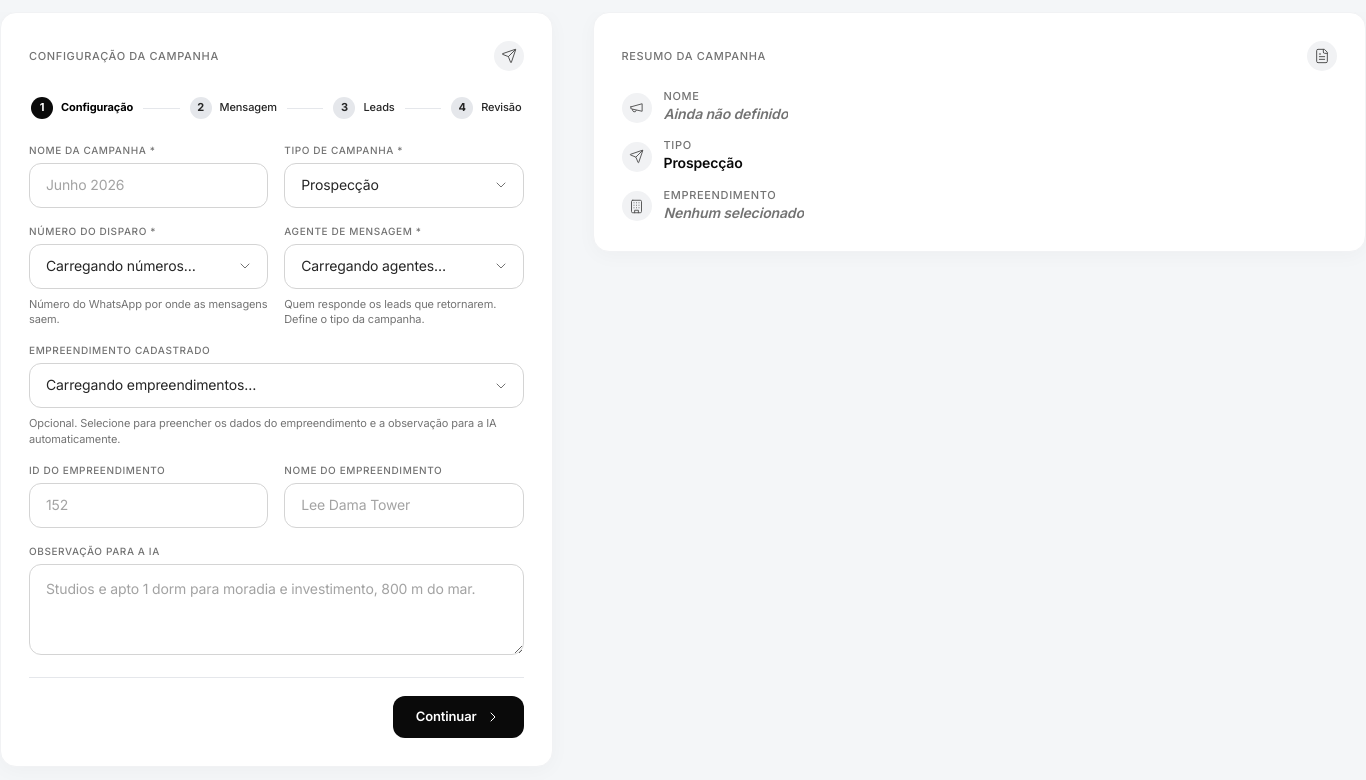
Scenario: DispatchForm › lista só templates aprovados do tipo da campanha, sem pendentes nem rejeitados
Type "Campanha teste" into the field labelled "Nome da campanha *". click: point(149, 185)
box: [29,163,268,208]
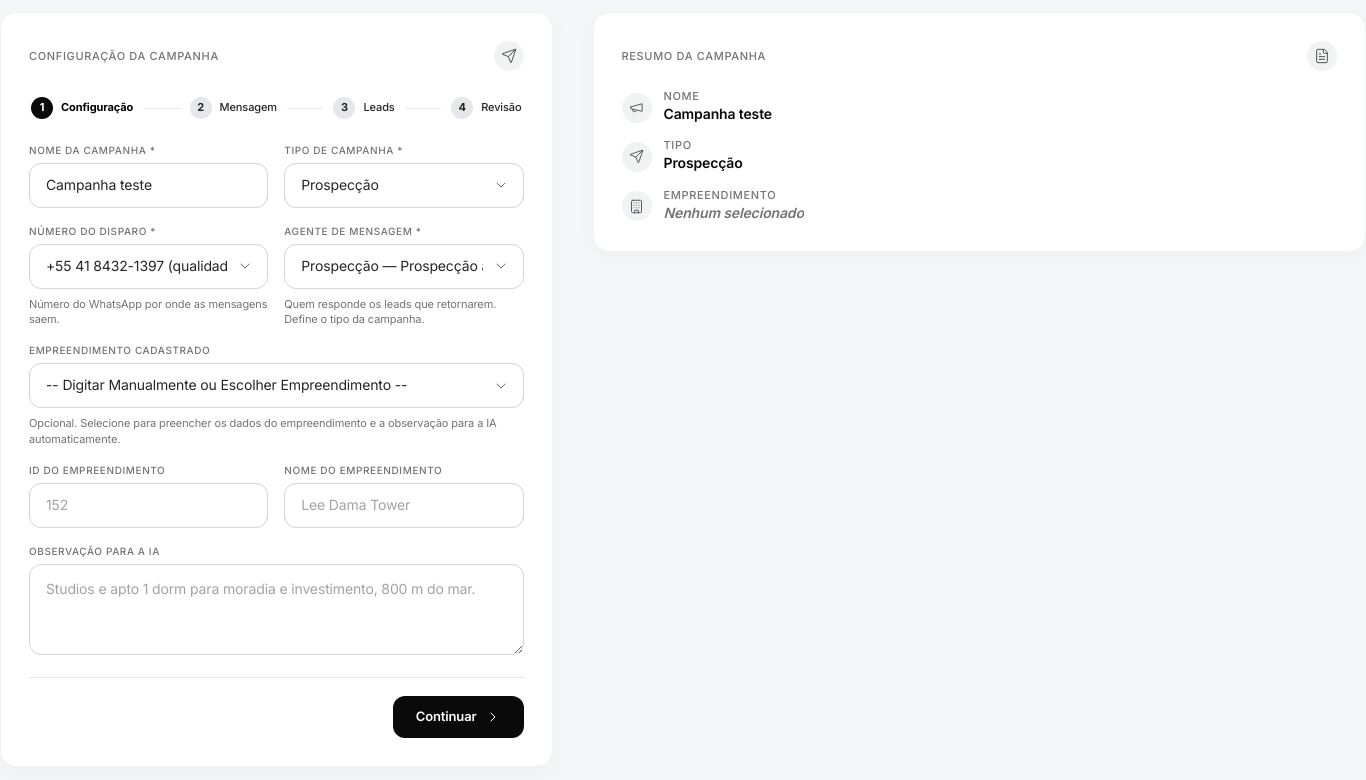
expect the dropdown labelled "Número do disparo *" shows "+55 41 8432-1397 (qualidade GREEN)": met, box [29,244,268,289]
Click the button "Continuar". click: point(458, 717)
box: [393,696,524,738]
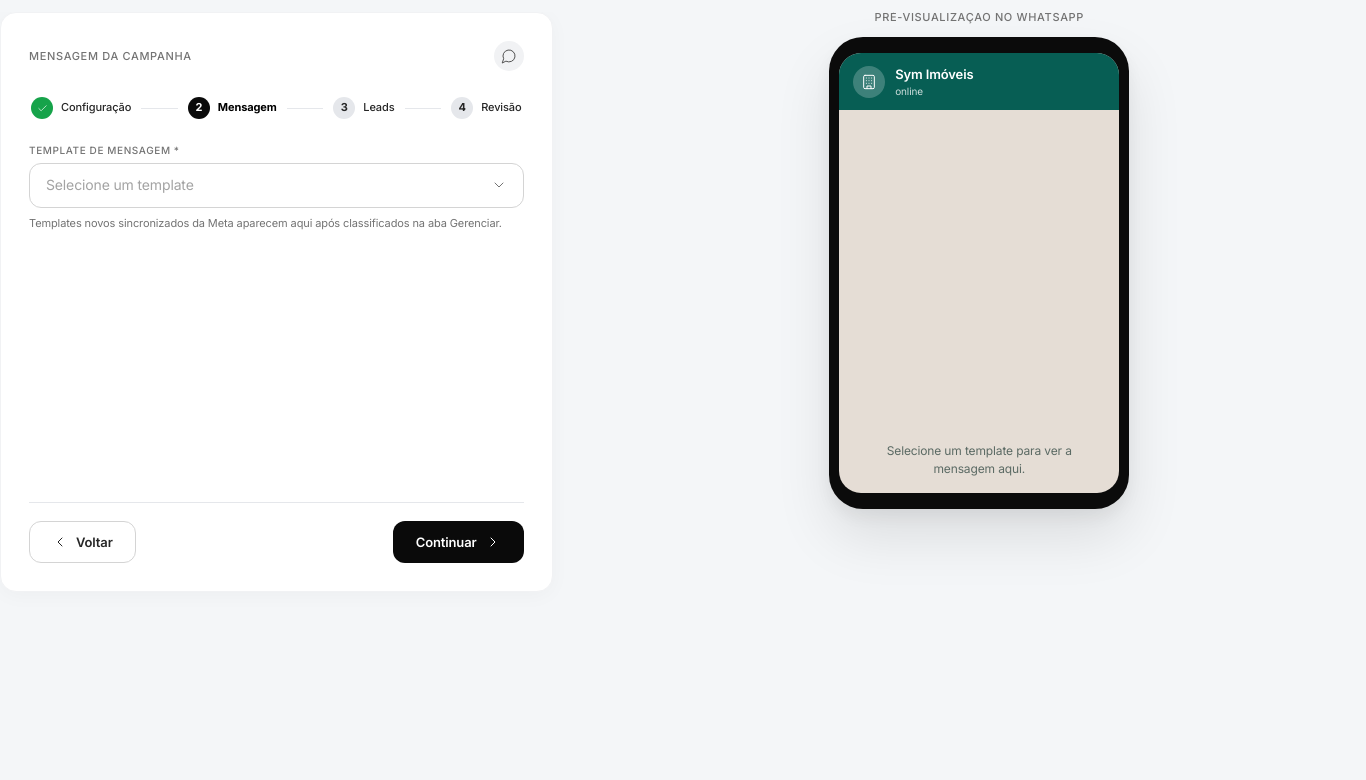
Click the button "Selecione um template". click: point(120, 184)
box: [29,163,524,208]
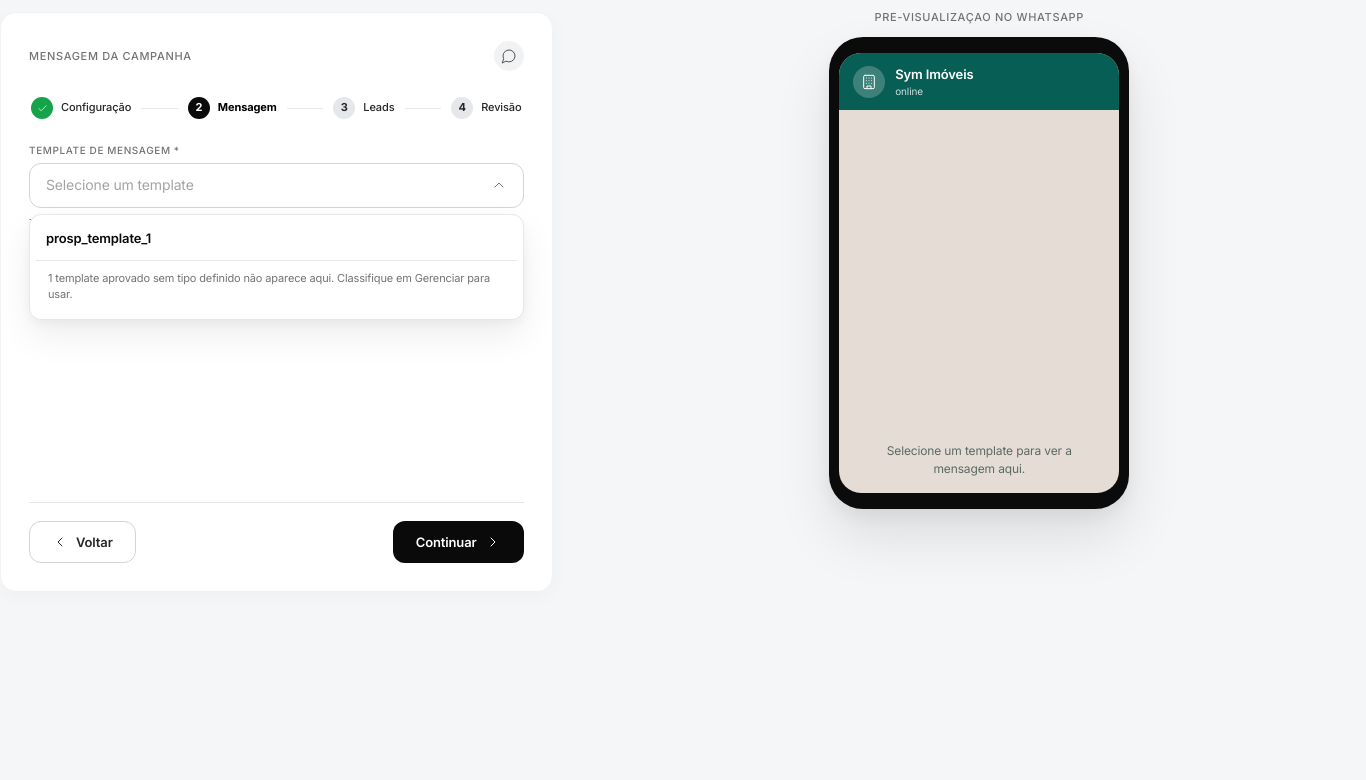
expect the text "1 template aprovado sem tipo definido" is shown: met, box [36,260,516,312]
